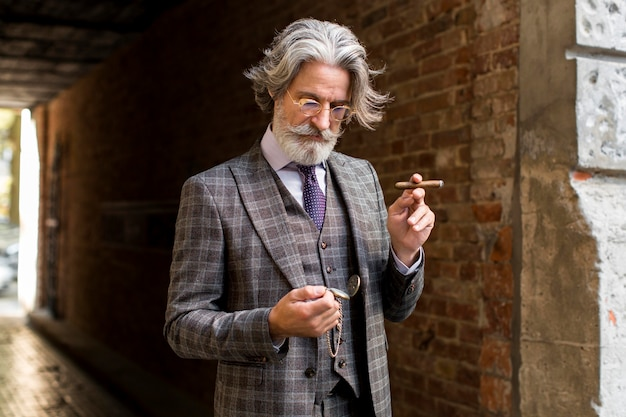cigarette: (395, 179, 445, 188)
